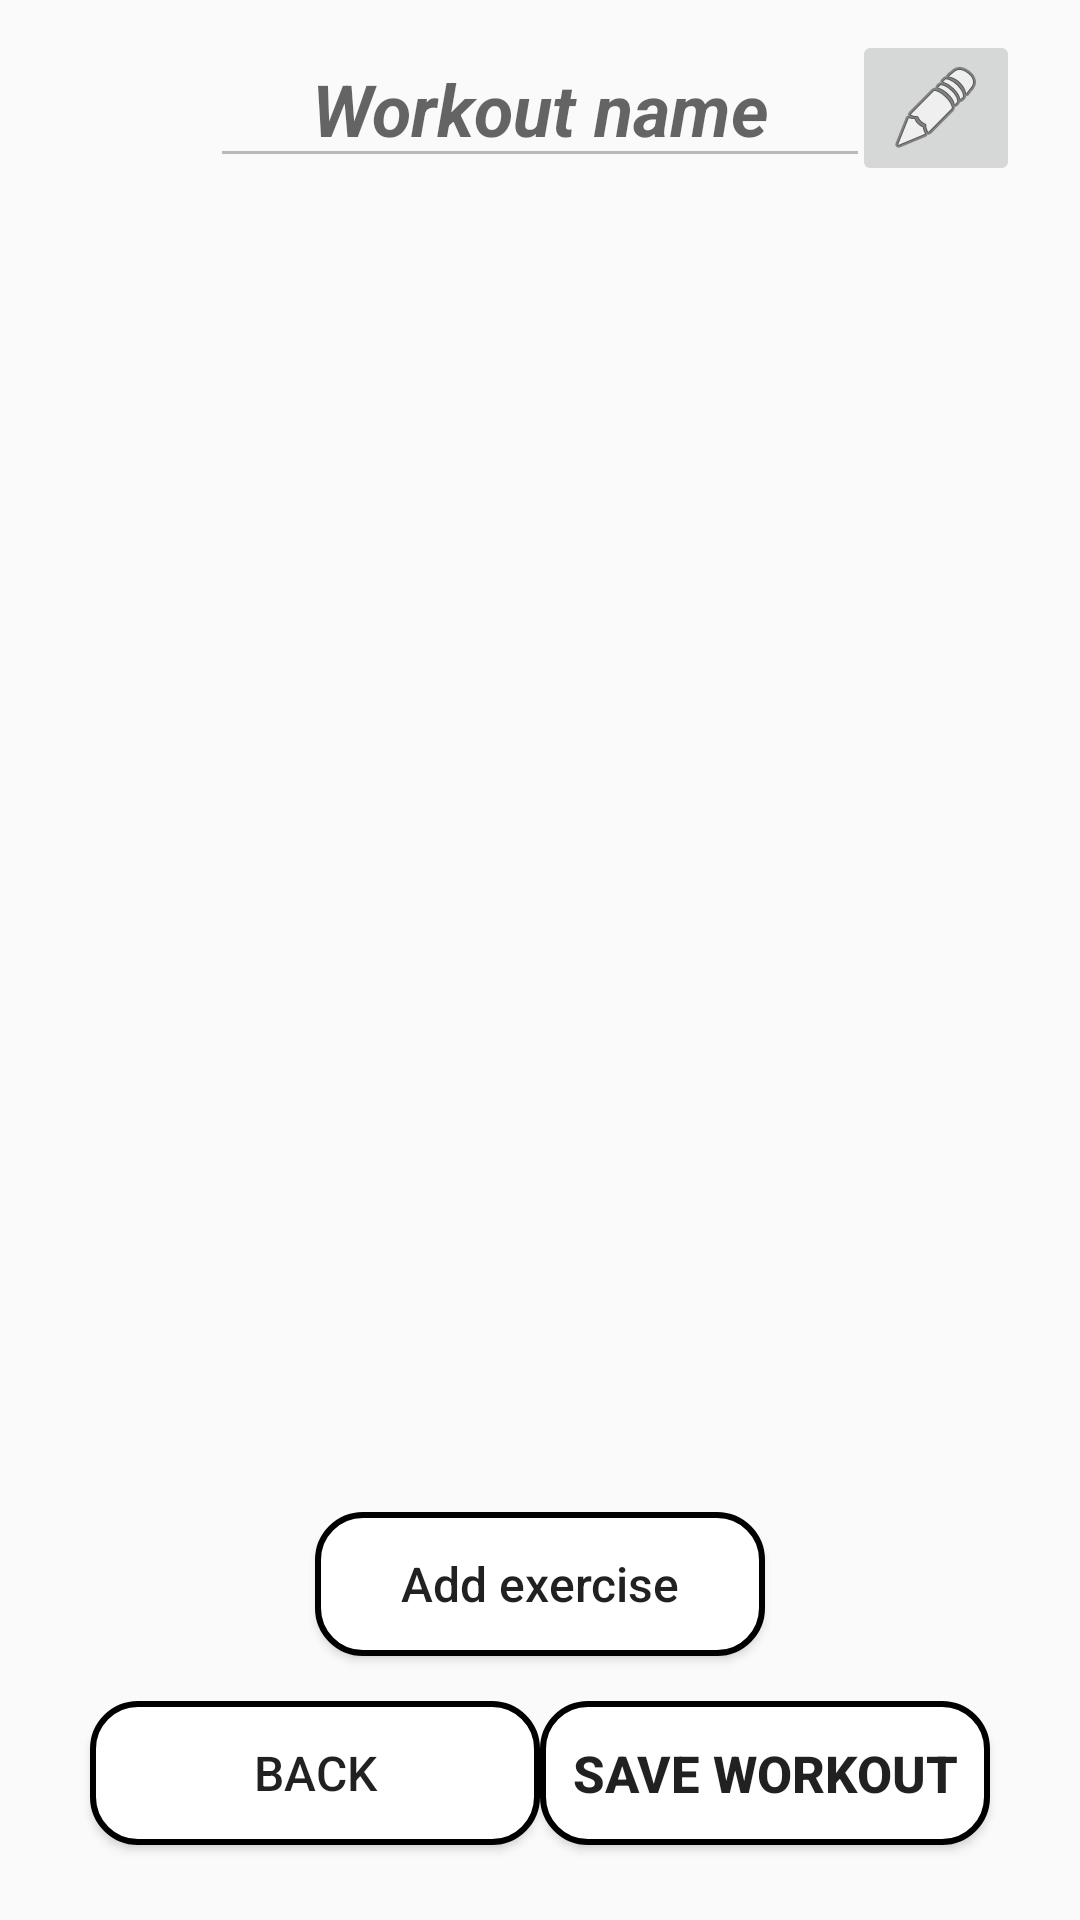

Screen size 1080×1920. Icon name, then its center in pixels as [x,y]:
edit: [936,108]
